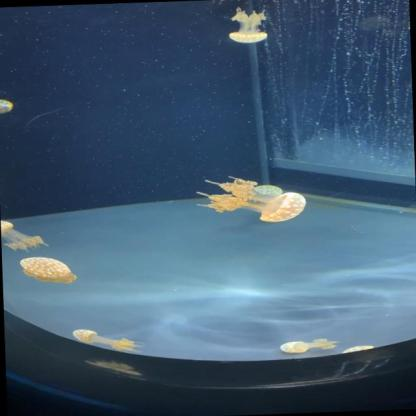jellyfish: (67, 325, 146, 355), (18, 254, 76, 283), (257, 191, 311, 222), (228, 30, 270, 44), (278, 338, 312, 354), (69, 327, 97, 342), (0, 96, 15, 117), (1, 219, 13, 237)
